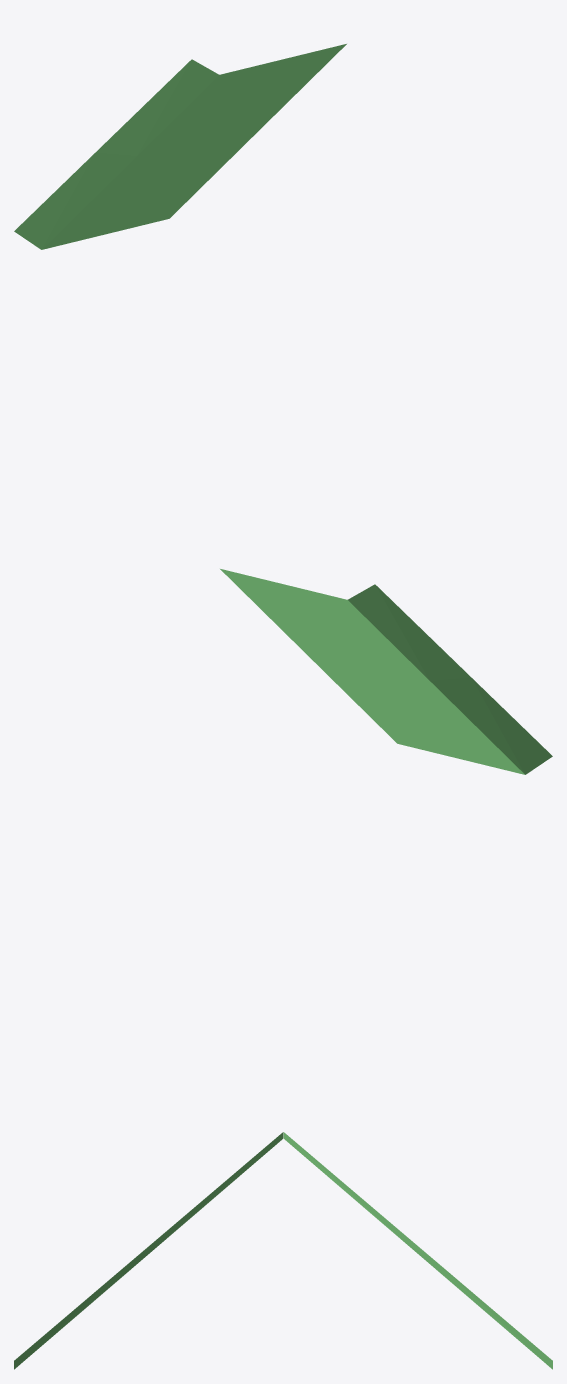
File: sylentemple_deco07.gltf
The picture shows the model from 3 angles, top to bottom: view 1: azimuth 30°, elevation 25°; view 2: azimuth 150°, elevation 25°; view 3: azimuth 270°, elevation 25°; orthographic projection. The views are drawn at different scales.
Visible parts, largest first — view 1: sylentemple_deco07; view 2: sylentemple_deco07; view 3: sylentemple_deco07.
Boxes of the visible parts, x1,y1,x2,y2 form: sylentemple_deco07: [14, 44, 346, 249]; sylentemple_deco07: [220, 569, 552, 774]; sylentemple_deco07: [14, 1132, 552, 1369].
Size of the model in its own units: 2.86 by 4.89 by 9.62.
